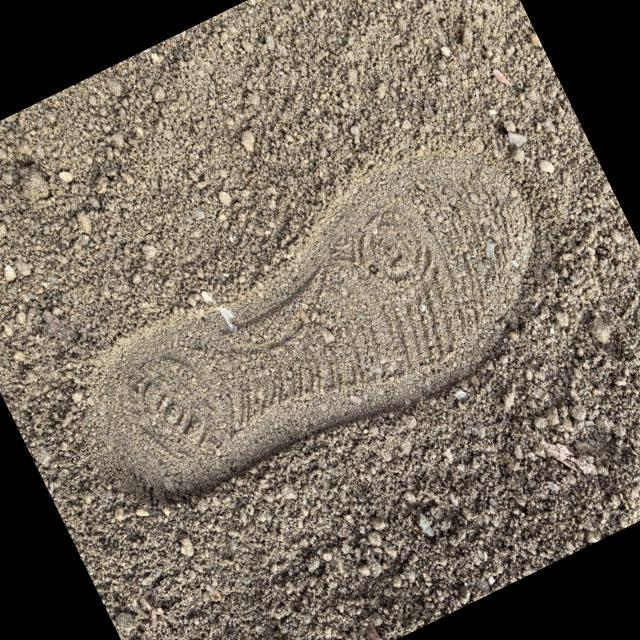human_foot_print: (23, 102, 584, 517)
